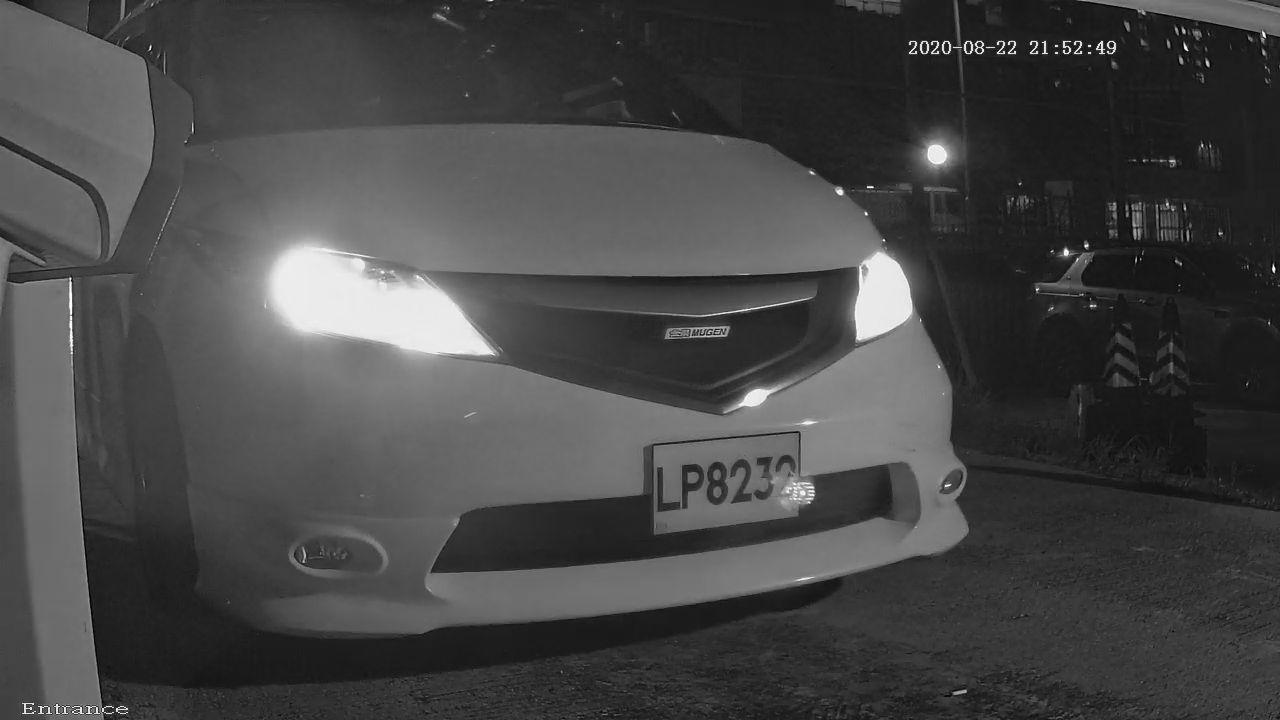Car: (6, 1, 1029, 704)
License Plate: (593, 367, 870, 581)
